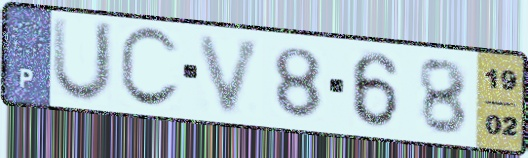6: (348, 49, 405, 133)
8: (269, 44, 328, 121), (415, 56, 471, 137)
C: (116, 24, 183, 112)
U: (48, 14, 119, 106)
V: (194, 32, 268, 119)
